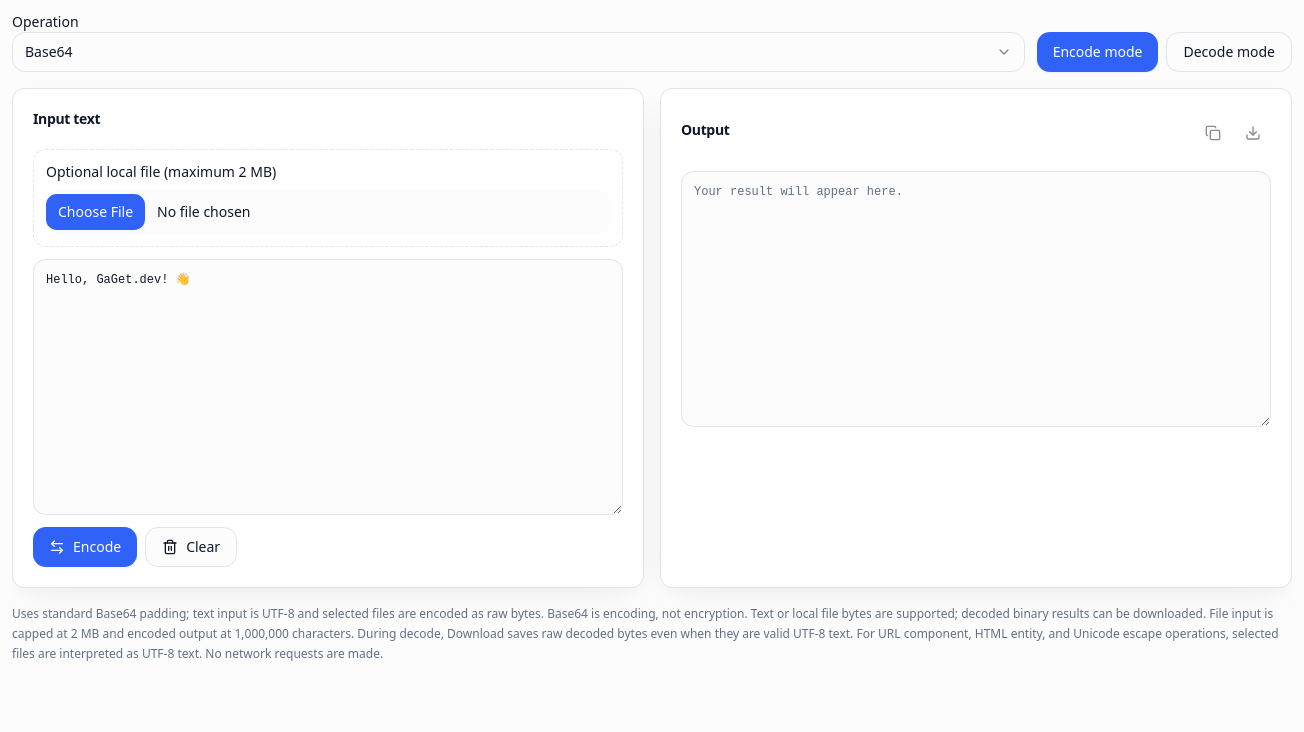
encodes UTF-8 text in the shared Base64 mode
The image size is (1304, 732).
Replace the text in the text box named "Encoding input" with "Hello" at (328, 387), box [33,259,623,515]
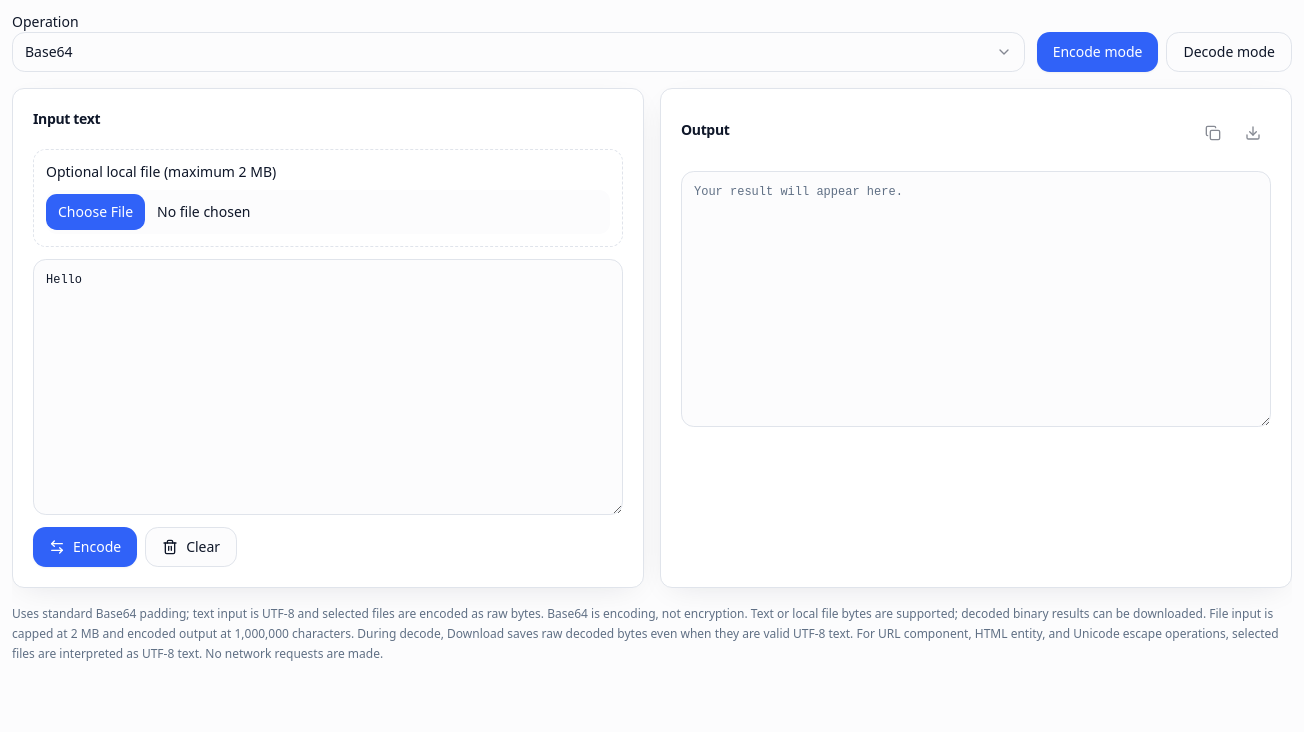
Click the button "Encode".
click(85, 547)  # box [33,527,137,567]
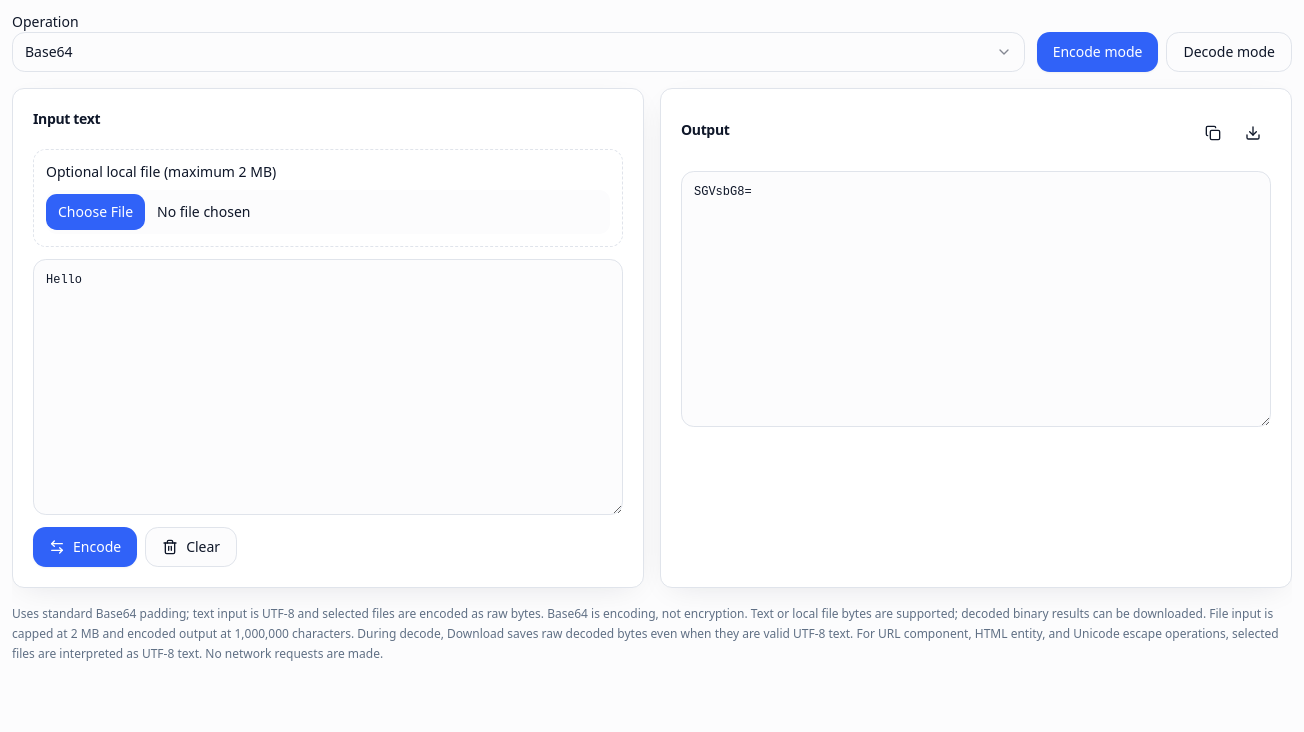
expect the text box named "Encoding output" holds "SGVsbG8=": met, box [681,171,1271,427]
